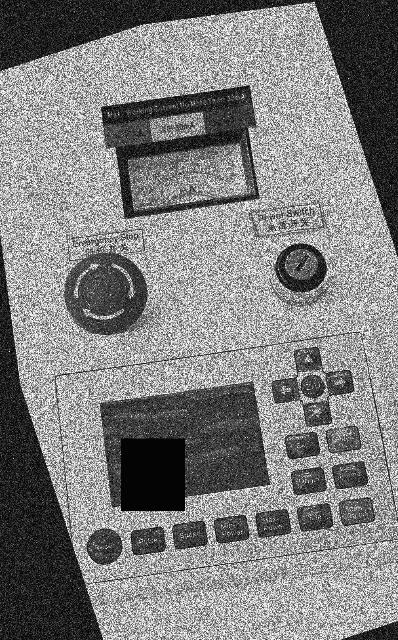Amp_Meter: (128, 143, 250, 211)
Display: (101, 383, 269, 507)
Down_button: (304, 401, 332, 426)
Emergency_Stop: (64, 253, 147, 334)
Enter_button: (326, 426, 361, 453)
Esc_button: (286, 432, 320, 458)
File_button: (298, 504, 333, 531)
Frame_button: (333, 462, 367, 488)
Left_button: (272, 379, 299, 403)
Max-Power_button: (256, 510, 291, 537)
Min-Power_button: (215, 516, 249, 543)
Origin_button: (291, 467, 326, 494)
Power_switch: (272, 244, 327, 303)
Pulse_button: (131, 527, 165, 555)
Reset_button: (87, 529, 122, 564)
Right_button: (326, 371, 354, 395)
Speed_button: (173, 521, 207, 548)
Start-Pause_button: (339, 498, 374, 525)
Up_button: (295, 348, 321, 372)
Z_U_button: (301, 375, 324, 398)
